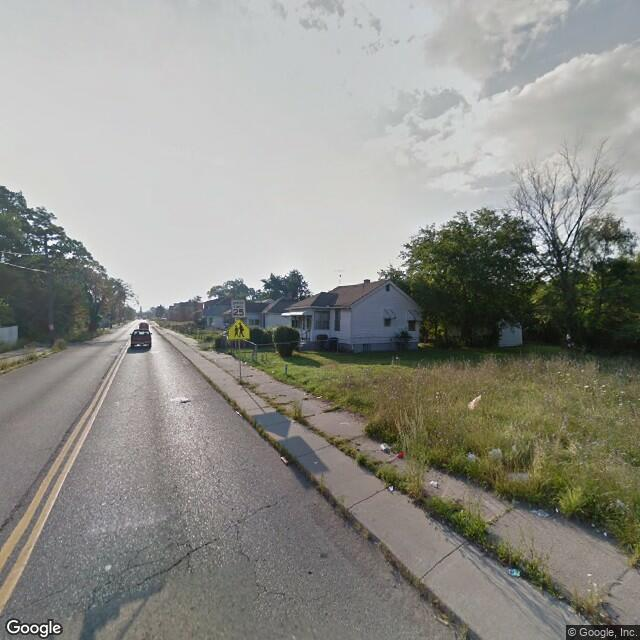litter: (377, 438, 408, 464), (581, 515, 617, 537), (456, 443, 484, 464), (502, 560, 527, 581), (527, 502, 553, 519), (304, 385, 327, 402), (467, 389, 483, 408), (424, 475, 444, 490), (230, 403, 248, 419), (276, 451, 292, 468), (380, 481, 401, 492)
